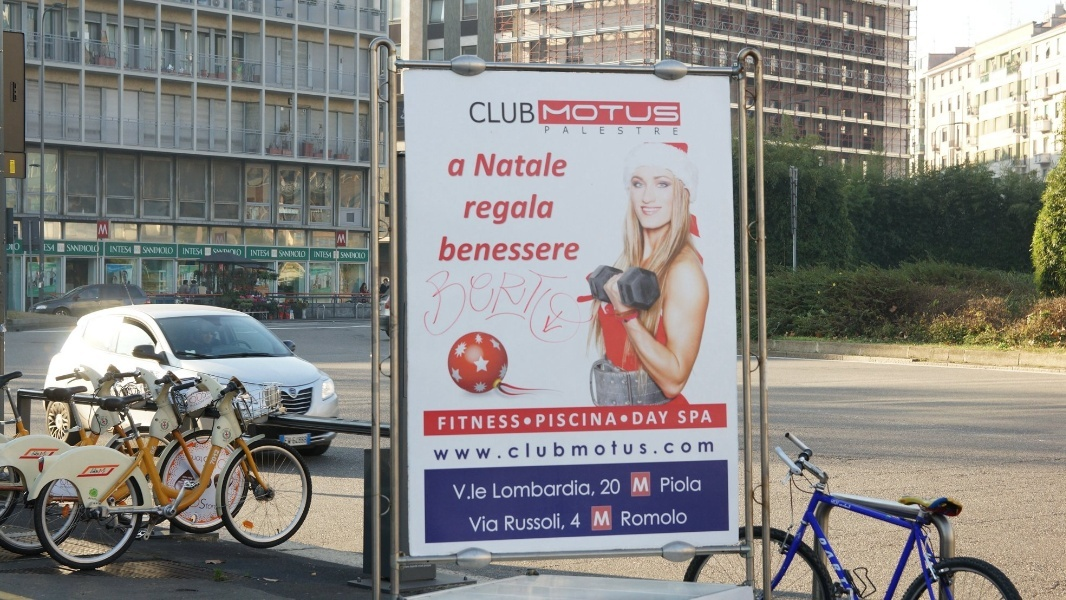text: (433, 267, 448, 338), (449, 267, 464, 338), (465, 267, 480, 338), (481, 267, 496, 338), (497, 267, 512, 338), (513, 267, 528, 338), (529, 267, 544, 338), (545, 267, 560, 338), (833, 538, 848, 586), (561, 267, 571, 338), (481, 191, 496, 225), (497, 191, 512, 225), (513, 191, 528, 225), (529, 191, 544, 225), (466, 191, 480, 225), (426, 267, 432, 338), (449, 236, 464, 263), (465, 236, 480, 263), (481, 236, 496, 263), (497, 236, 512, 263), (513, 236, 528, 263), (529, 236, 544, 263), (545, 236, 560, 263), (561, 236, 576, 263), (481, 153, 496, 178), (497, 153, 512, 178), (513, 153, 528, 178), (529, 153, 544, 178), (545, 153, 560, 178), (433, 439, 448, 462), (449, 439, 464, 462), (465, 439, 480, 462), (481, 439, 496, 462), (497, 439, 512, 462), (513, 439, 528, 462), (529, 439, 544, 462), (545, 439, 560, 462), (561, 439, 576, 462), (577, 439, 592, 462), (593, 439, 608, 462), (609, 439, 624, 462), (625, 439, 640, 462), (641, 439, 656, 462), (657, 439, 672, 462), (673, 439, 688, 462), (689, 439, 704, 462), (545, 191, 555, 225), (825, 538, 832, 586), (481, 101, 496, 123), (497, 101, 512, 123), (513, 101, 528, 123), (497, 479, 512, 499), (513, 479, 528, 499), (529, 479, 544, 499), (545, 479, 560, 499), (561, 479, 576, 499), (577, 479, 592, 499), (673, 510, 689, 528), (465, 482, 480, 501), (513, 513, 528, 532), (529, 513, 544, 532), (545, 513, 560, 532), (545, 104, 560, 122), (561, 104, 576, 122), (577, 104, 592, 122), (593, 104, 608, 122), (609, 104, 624, 122), (625, 104, 640, 122), (641, 104, 656, 122), (657, 104, 672, 122), (673, 475, 688, 493), (625, 510, 640, 528), (641, 510, 656, 528), (657, 510, 672, 528), (450, 159, 464, 178), (481, 517, 496, 534), (689, 475, 703, 493), (609, 478, 622, 497), (545, 412, 560, 428), (561, 412, 576, 428), (577, 412, 592, 428), (593, 412, 608, 428), (689, 409, 704, 425), (210, 449, 224, 466), (595, 510, 608, 528), (452, 482, 464, 501), (193, 391, 208, 406), (449, 415, 464, 430), (465, 415, 480, 430), (481, 415, 496, 430), (497, 415, 512, 430), (641, 410, 656, 425), (467, 517, 480, 534), (660, 475, 672, 493), (705, 439, 714, 462), (561, 153, 569, 178), (471, 101, 480, 123), (193, 396, 208, 408), (657, 410, 669, 425), (529, 101, 537, 123), (833, 499, 848, 510), (641, 476, 650, 494), (678, 409, 688, 425), (504, 513, 512, 532), (338, 234, 352, 244), (81, 244, 96, 253), (193, 454, 208, 463), (289, 436, 304, 445), (545, 126, 560, 135), (561, 126, 576, 135), (577, 126, 592, 135), (593, 126, 608, 135), (609, 126, 624, 135), (625, 126, 640, 135), (641, 126, 656, 135), (657, 126, 672, 135), (443, 236, 448, 263), (439, 415, 448, 430), (601, 478, 608, 497), (100, 224, 112, 235), (536, 412, 544, 428), (609, 412, 617, 428), (705, 409, 713, 425), (145, 246, 160, 254), (225, 248, 240, 256), (67, 244, 80, 253), (481, 482, 487, 501), (673, 104, 679, 122), (289, 250, 304, 257), (113, 246, 128, 253), (513, 415, 520, 430), (633, 410, 640, 425), (161, 246, 173, 254), (212, 248, 224, 256), (561, 513, 566, 532), (353, 252, 366, 259), (257, 250, 270, 257), (201, 498, 208, 511), (193, 247, 204, 255), (577, 236, 580, 263), (492, 479, 496, 499), (209, 498, 215, 511), (341, 252, 352, 259), (321, 251, 332, 258), (7, 243, 16, 251), (225, 436, 233, 445), (636, 476, 640, 494), (34, 451, 48, 456), (153, 445, 160, 455), (184, 247, 192, 255), (279, 250, 288, 257), (217, 236, 224, 245), (225, 426, 232, 435), (188, 391, 192, 406), (161, 428, 171, 434), (593, 479, 596, 499), (577, 513, 581, 528), (49, 244, 56, 252), (97, 468, 106, 474), (621, 510, 624, 528), (609, 510, 612, 528), (497, 517, 500, 534), (161, 419, 171, 424), (478, 153, 480, 178), (849, 538, 850, 586), (673, 126, 678, 135), (573, 513, 576, 528), (314, 251, 320, 258), (220, 426, 224, 435), (284, 436, 288, 445), (44, 244, 48, 252), (252, 250, 256, 257), (89, 497, 96, 501), (97, 244, 100, 253), (17, 243, 20, 251), (849, 499, 851, 510), (129, 246, 132, 253), (465, 159, 466, 178), (93, 468, 96, 474), (190, 454, 192, 463), (305, 436, 307, 445), (543, 104, 544, 122), (305, 250, 307, 257), (110, 246, 112, 253), (191, 396, 192, 408), (209, 396, 210, 408), (223, 436, 224, 445), (143, 246, 144, 254), (241, 248, 242, 256), (97, 497, 99, 501)
